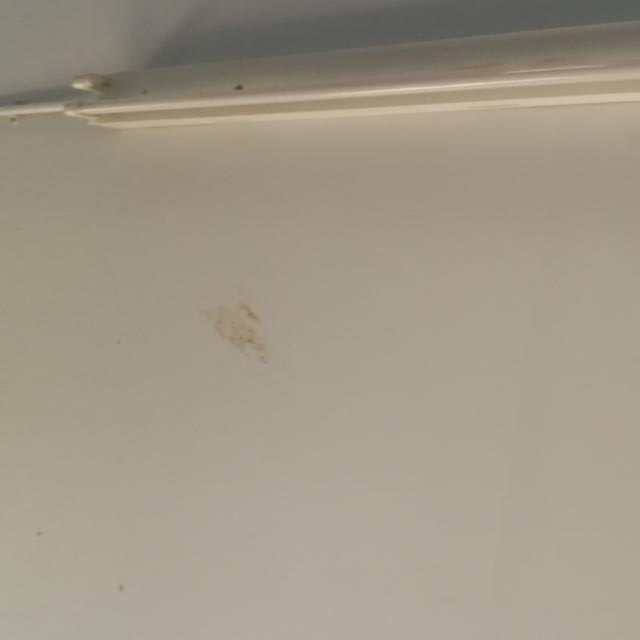fluorescent tube: (52, 0, 640, 145)
